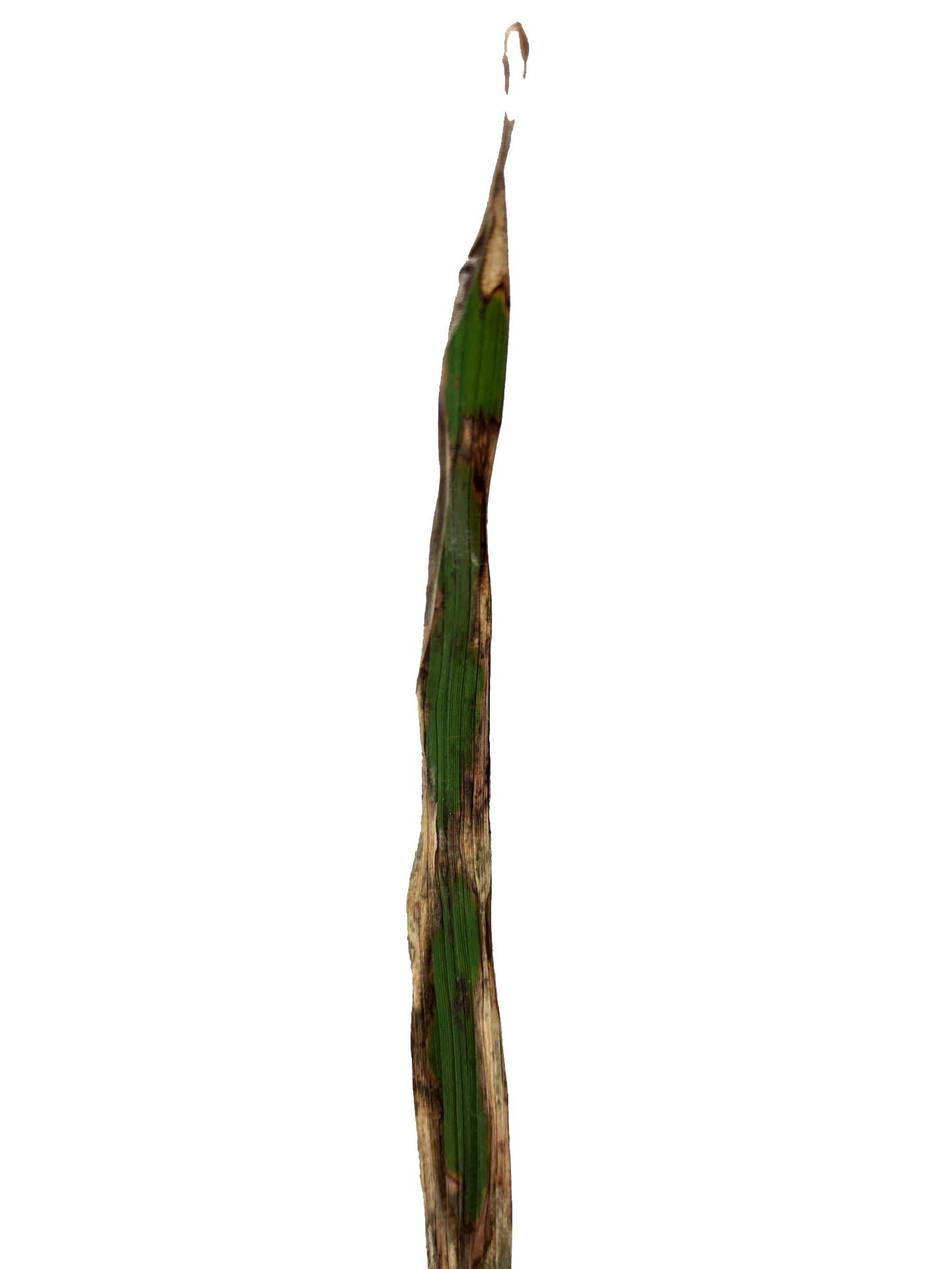Blight: (407, 26, 522, 1269)
